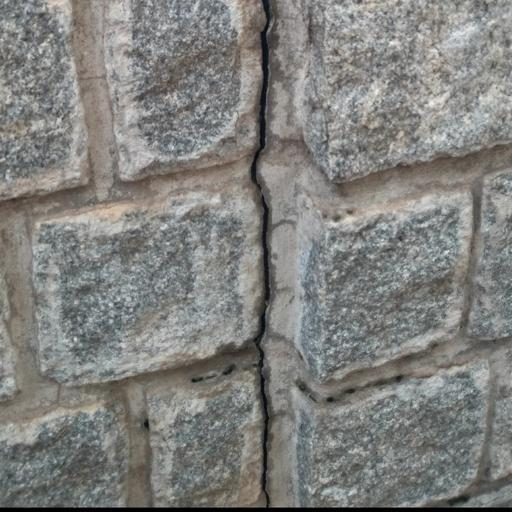major_crack: (231, 0, 306, 512)
